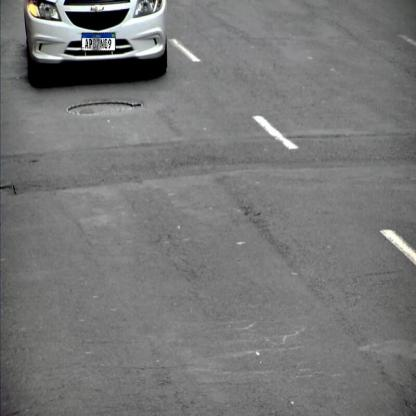PlacaM: (82, 33, 116, 51)
